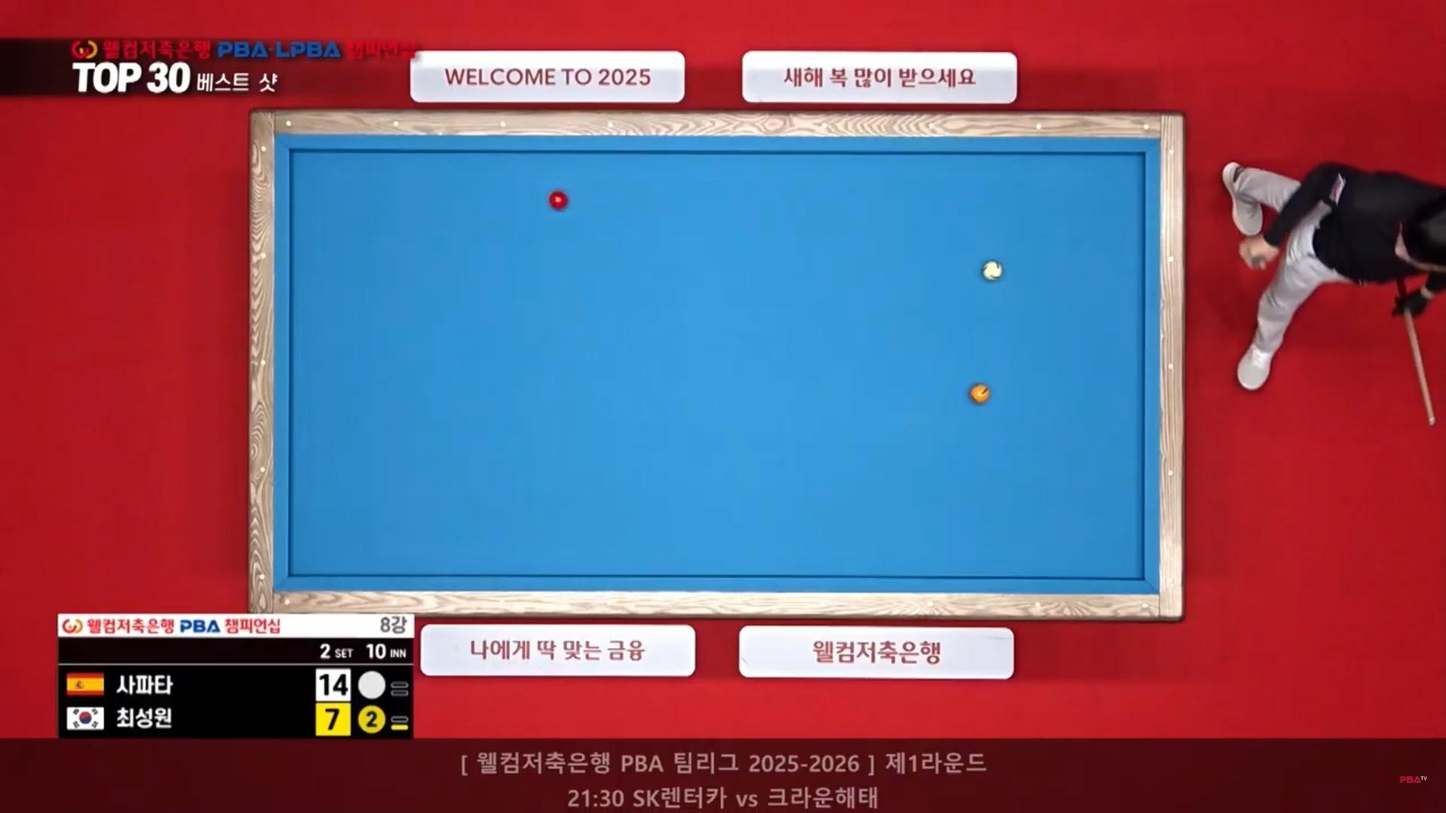Red: (549, 191, 572, 209)
White: (980, 261, 1004, 281)
Yellow: (966, 385, 992, 405)
